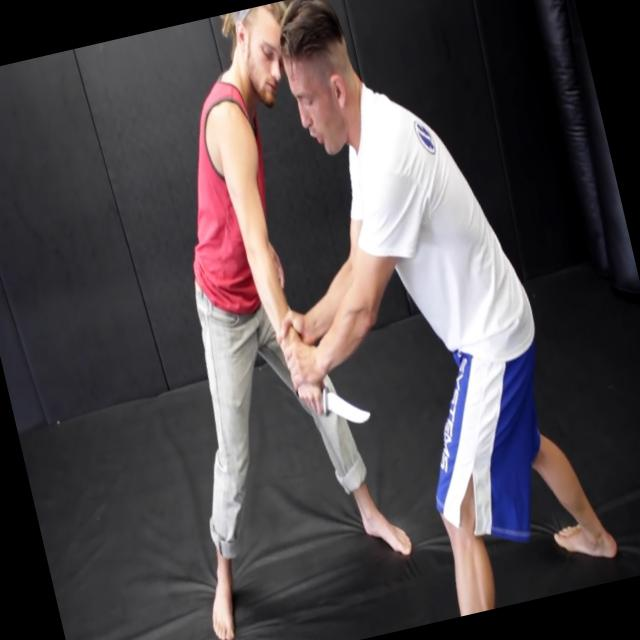knife: (293, 370, 376, 442)
